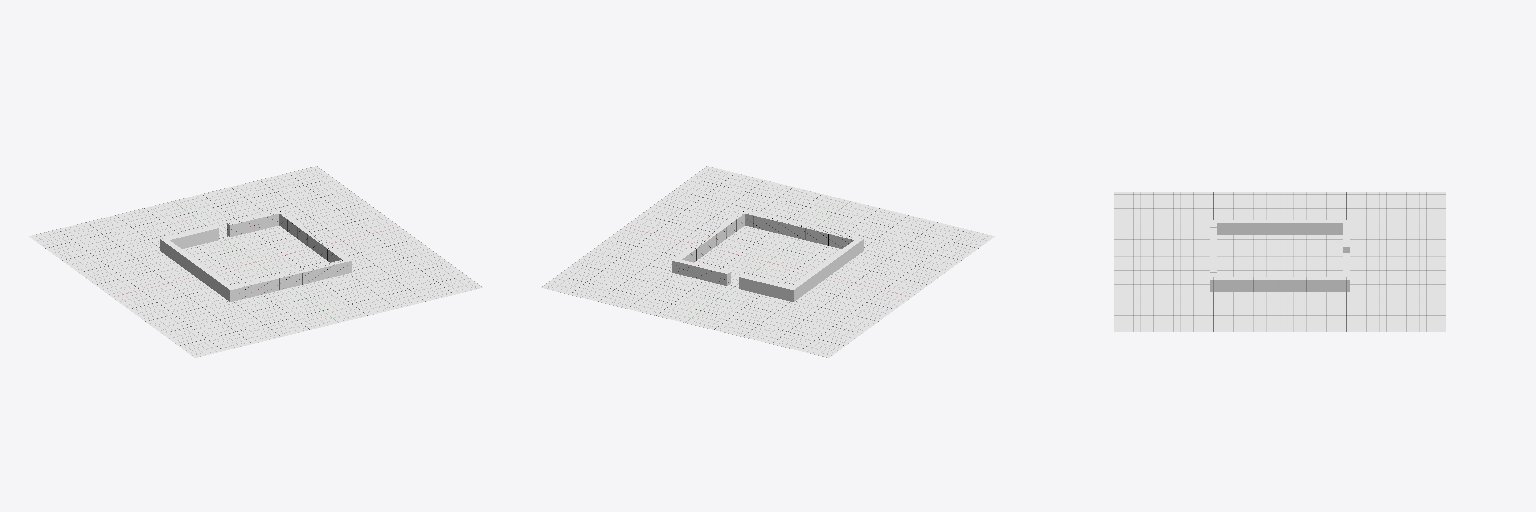
3 renders of one model, left to right at view 1: azimuth 30°, elevation 25°; view 2: azimuth 150°, elevation 25°; view 3: azimuth 270°, elevation 25°, orthographic.
Visible parts, largest first — view 1: object40, object24, object32, object16, object0, object8; view 2: object40, object24, object32, object16, object0, object8; view 3: object40, object16, object32.
Boxes of the visible parts, box(x1,y1,x2,y2) form: object40: box(29, 166, 482, 357); object24: box(233, 260, 345, 300); object32: box(160, 238, 235, 301); object16: box(276, 210, 351, 273); object0: box(227, 211, 278, 236); object8: box(167, 226, 218, 248); object40: box(541, 166, 994, 357); object24: box(745, 211, 856, 248); object32: box(788, 238, 863, 301); object16: box(672, 210, 747, 273); object0: box(678, 260, 730, 285); object8: box(739, 275, 790, 300); object40: box(1114, 192, 1445, 331); object16: box(1210, 277, 1349, 291); object32: box(1210, 220, 1349, 234).
Bounding box in the file's own units: 50 × 2 × 50.
6 materials, 4 textured.